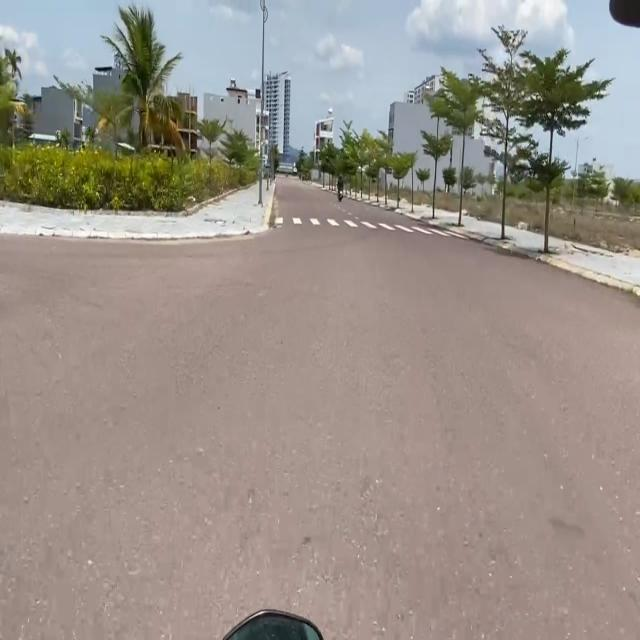walk-crossing: (272, 211, 477, 239)
